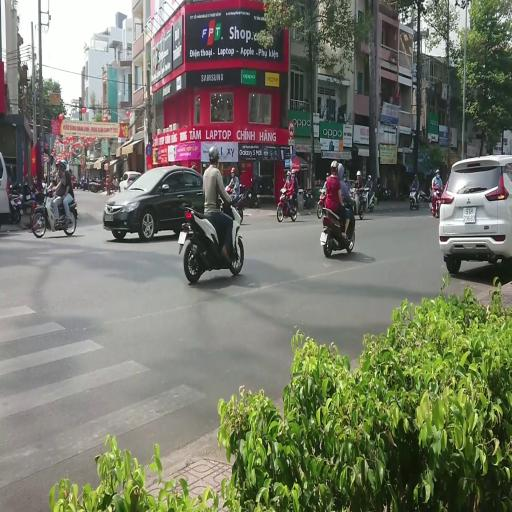bikes: (178, 189, 246, 284), (32, 186, 78, 237), (319, 194, 356, 257), (8, 174, 46, 228), (219, 187, 246, 224), (31, 186, 48, 237), (277, 188, 297, 222), (8, 181, 24, 223), (240, 177, 260, 208), (350, 186, 366, 219), (429, 185, 443, 217), (409, 186, 425, 210), (362, 186, 375, 212), (298, 186, 312, 209), (376, 180, 391, 201), (106, 175, 120, 194), (317, 189, 326, 218), (89, 176, 105, 192), (112, 175, 120, 191)
helmet: (208, 146, 220, 161), (337, 163, 344, 180), (331, 160, 338, 176), (60, 159, 67, 170), (55, 158, 61, 166), (33, 173, 37, 184), (356, 170, 361, 177), (435, 168, 440, 174), (287, 171, 291, 178), (343, 173, 347, 180), (231, 167, 235, 173), (414, 174, 418, 180), (291, 170, 295, 176), (69, 168, 72, 174), (251, 177, 254, 183), (368, 175, 371, 180), (326, 172, 329, 177), (436, 172, 439, 177)
